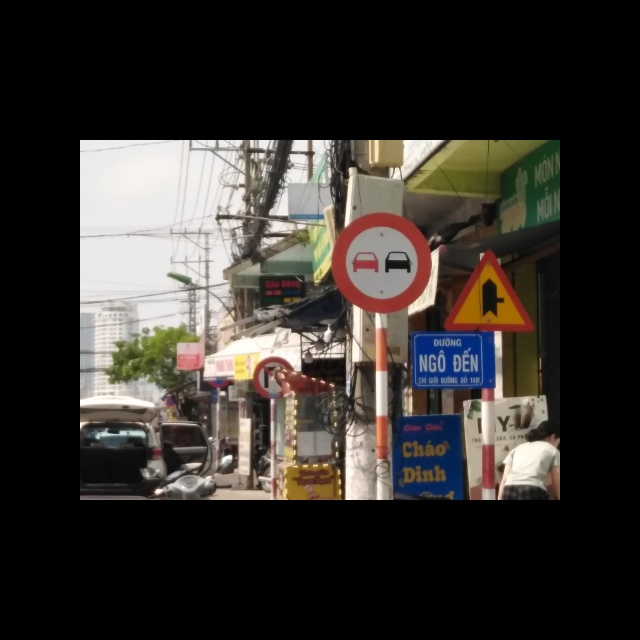Cấm vượt: (330, 211, 433, 315)
Giao nhau với đường không ưu tiên: (442, 246, 533, 332)
